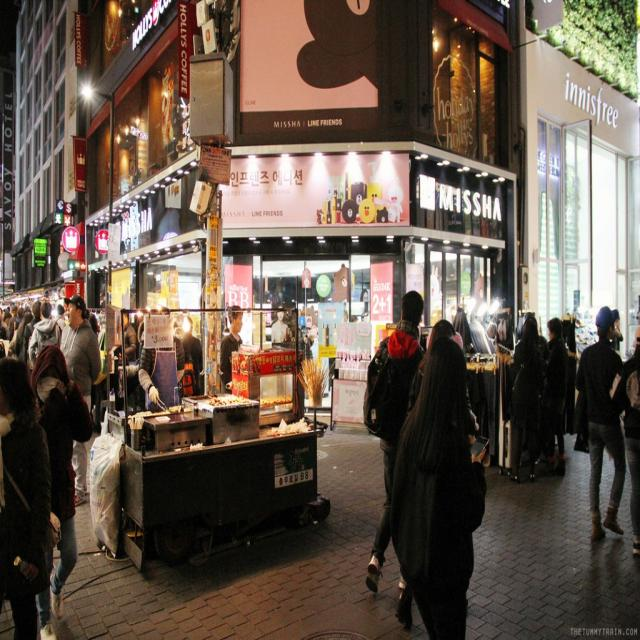body: (384, 329, 494, 639), (393, 318, 478, 632), (360, 288, 428, 595), (29, 340, 95, 640), (0, 352, 58, 639), (570, 302, 630, 544), (59, 293, 102, 509), (506, 311, 546, 485), (138, 306, 185, 412), (540, 313, 570, 478), (620, 323, 640, 557), (85, 307, 106, 432), (217, 304, 244, 394), (27, 300, 62, 367), (178, 315, 203, 398), (22, 298, 42, 386), (610, 306, 640, 364), (0, 303, 31, 358), (14, 310, 36, 361), (122, 311, 138, 363), (354, 288, 372, 326), (54, 304, 67, 336)
